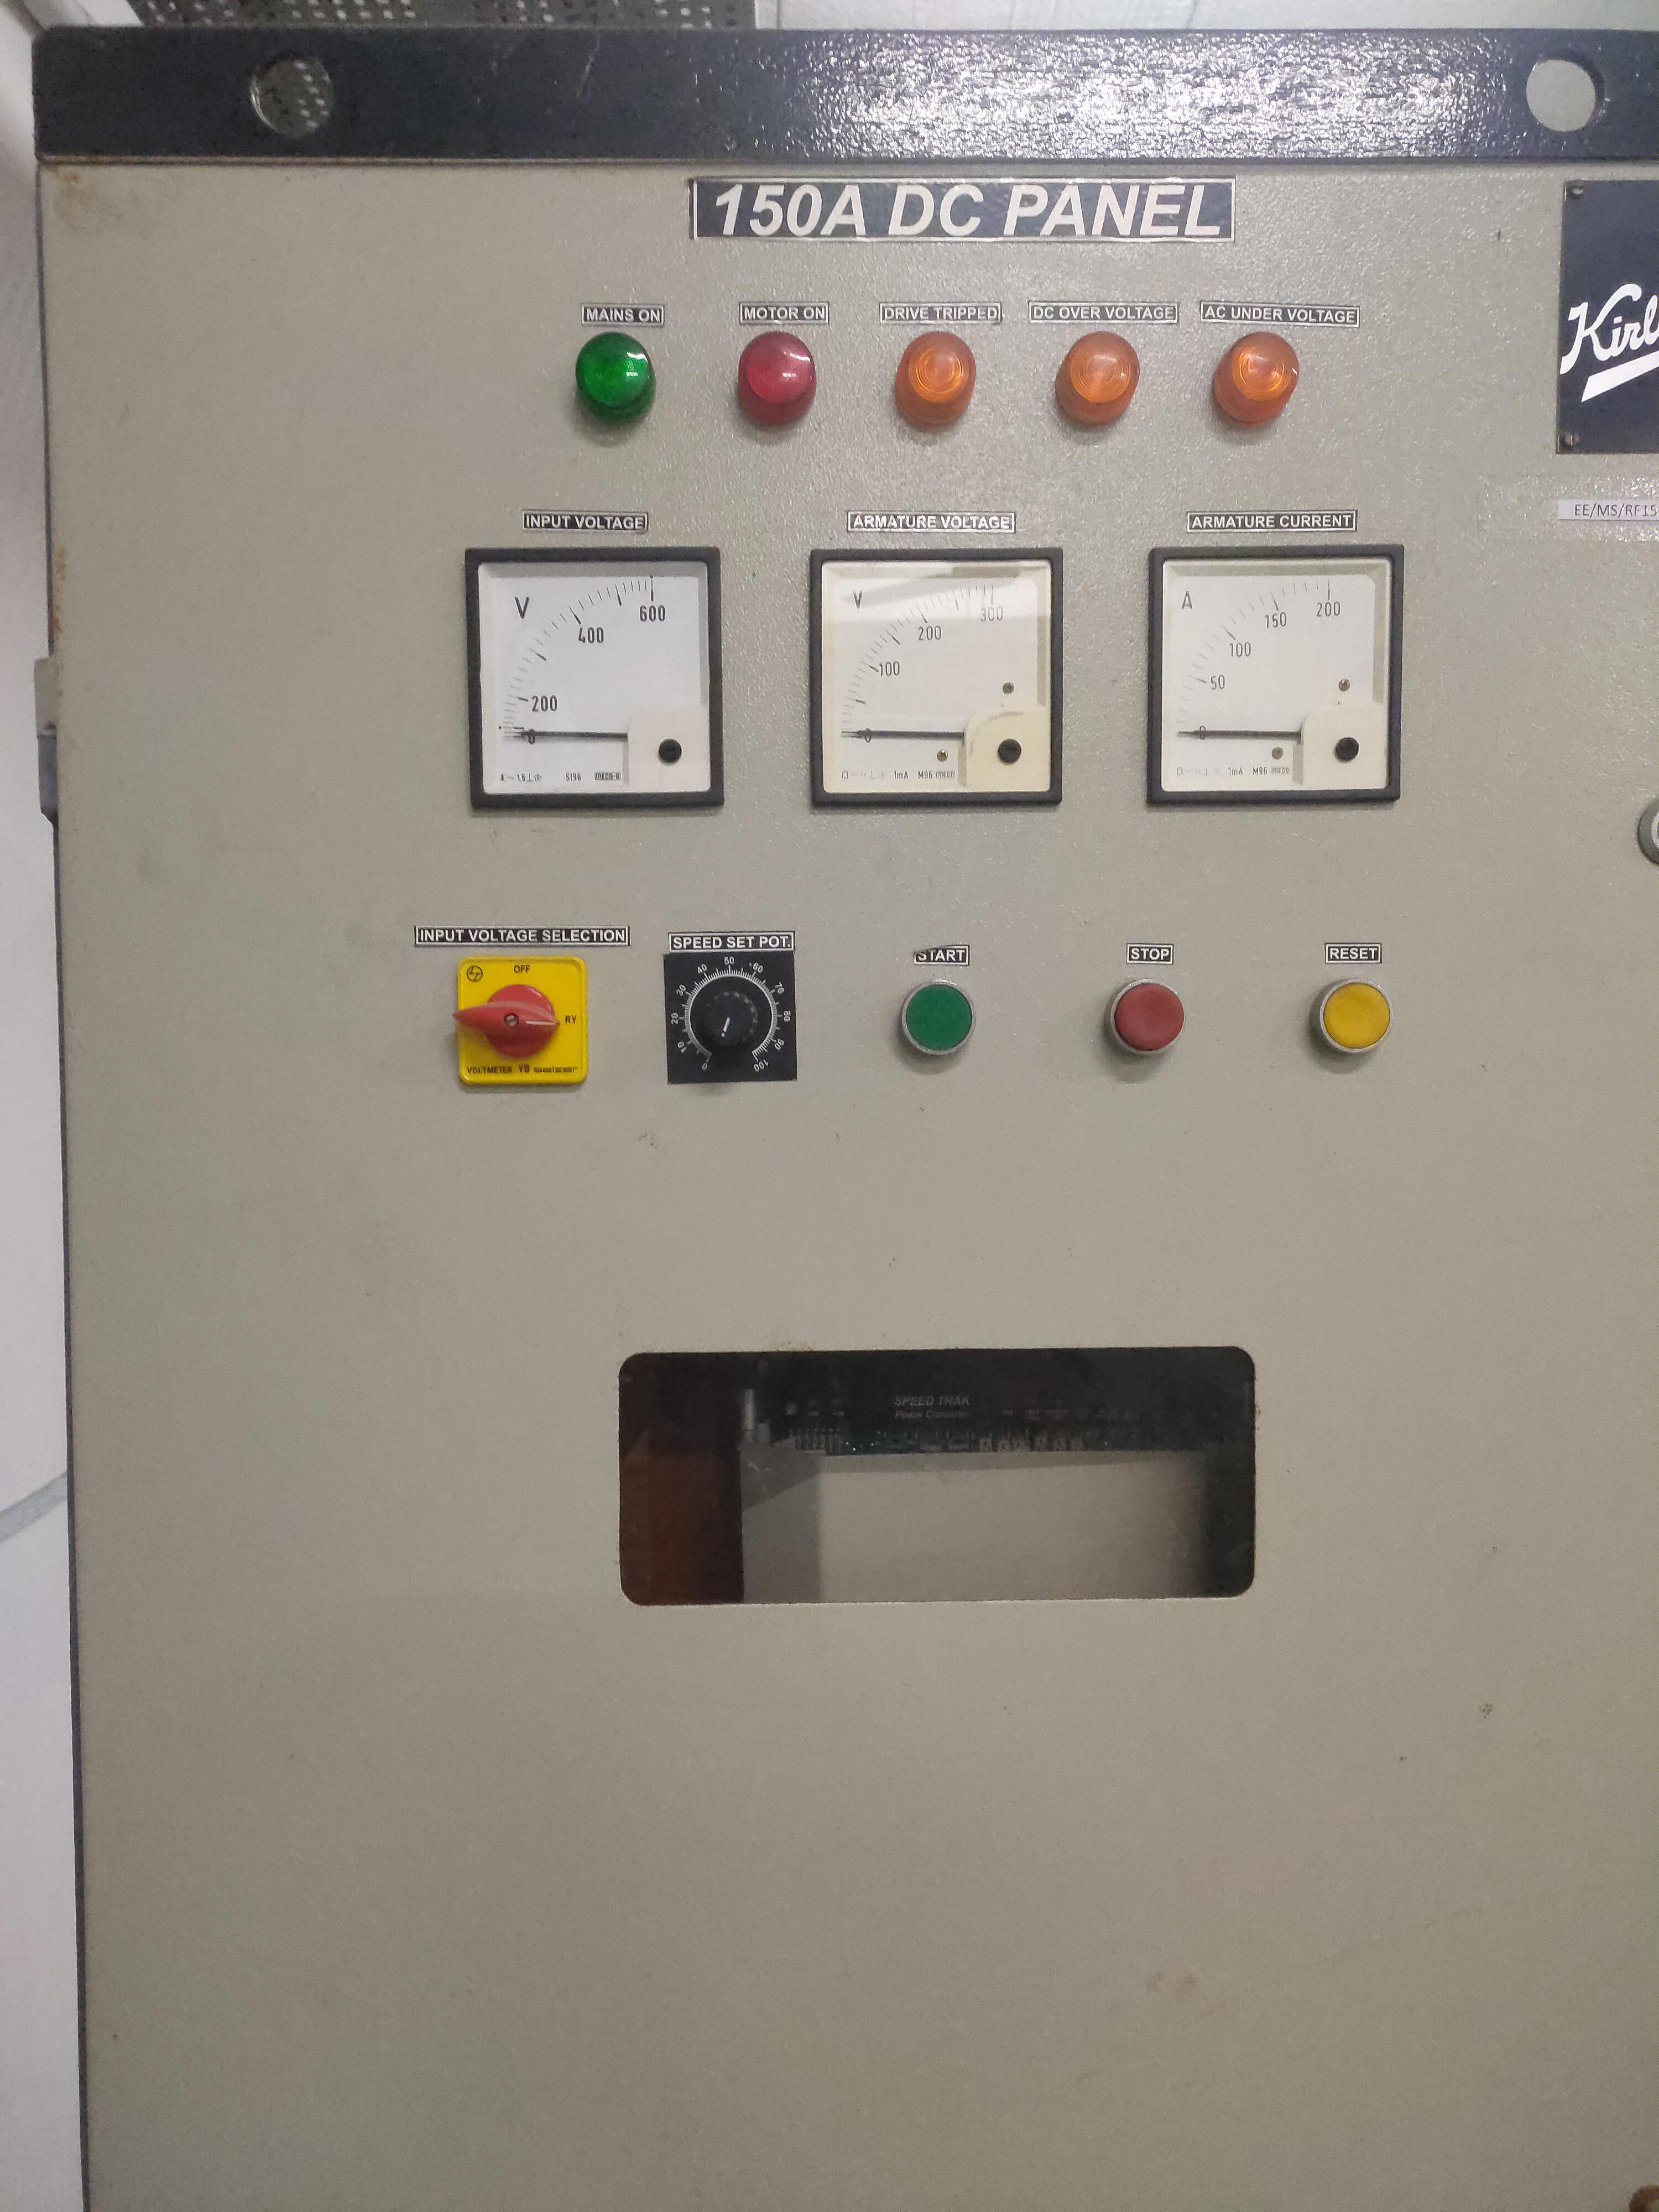Light Indications: (504, 268, 1349, 502)
